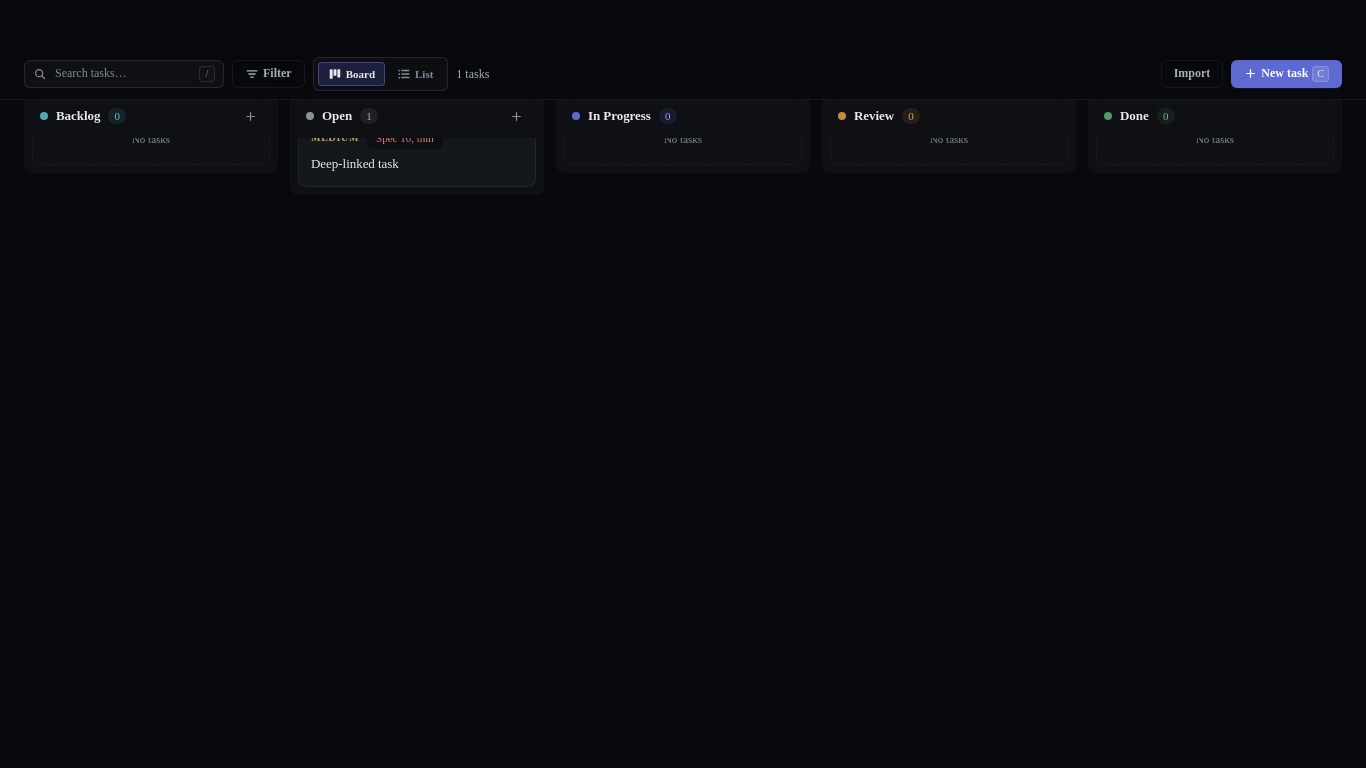
Test case: task modal and the URL › adds ?taskId=<id> when a card opens and removes it on close with history.replaceState, without the router or a new history entry
expect the button "New task C" is enabled: met, box 1231,60 -> 1342,88
What coordinates should you click on to do the following:
click the button "Deep-linked task"
I would click on:
 (355, 164)
Its box is 311,155 -> 399,174.
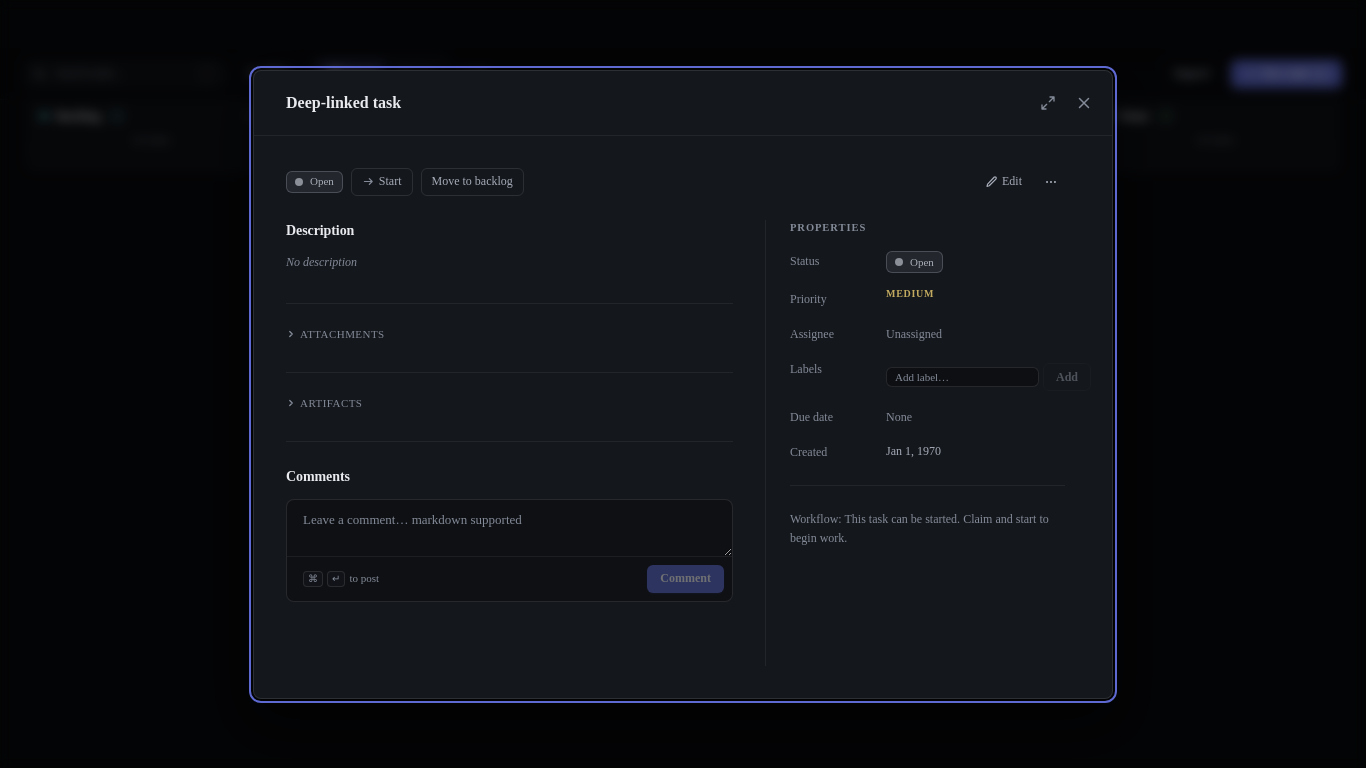
expect the dialog is shown: met, box 253,70 -> 1113,698
What coordinates should you click on to do the following:
click the button named "Close"
I would click on:
 (1084, 102)
Its box is 1068,86 -> 1100,118.
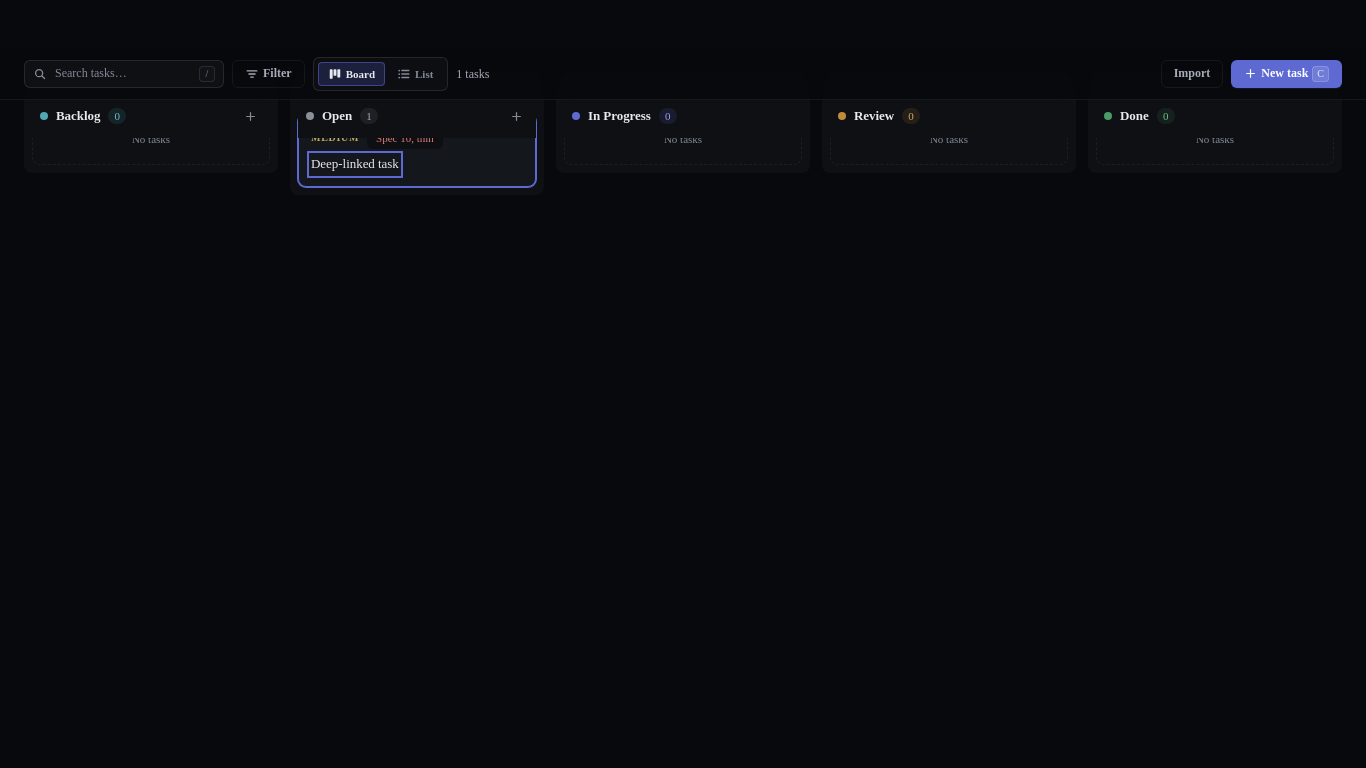
expect the dialog is gone: met
